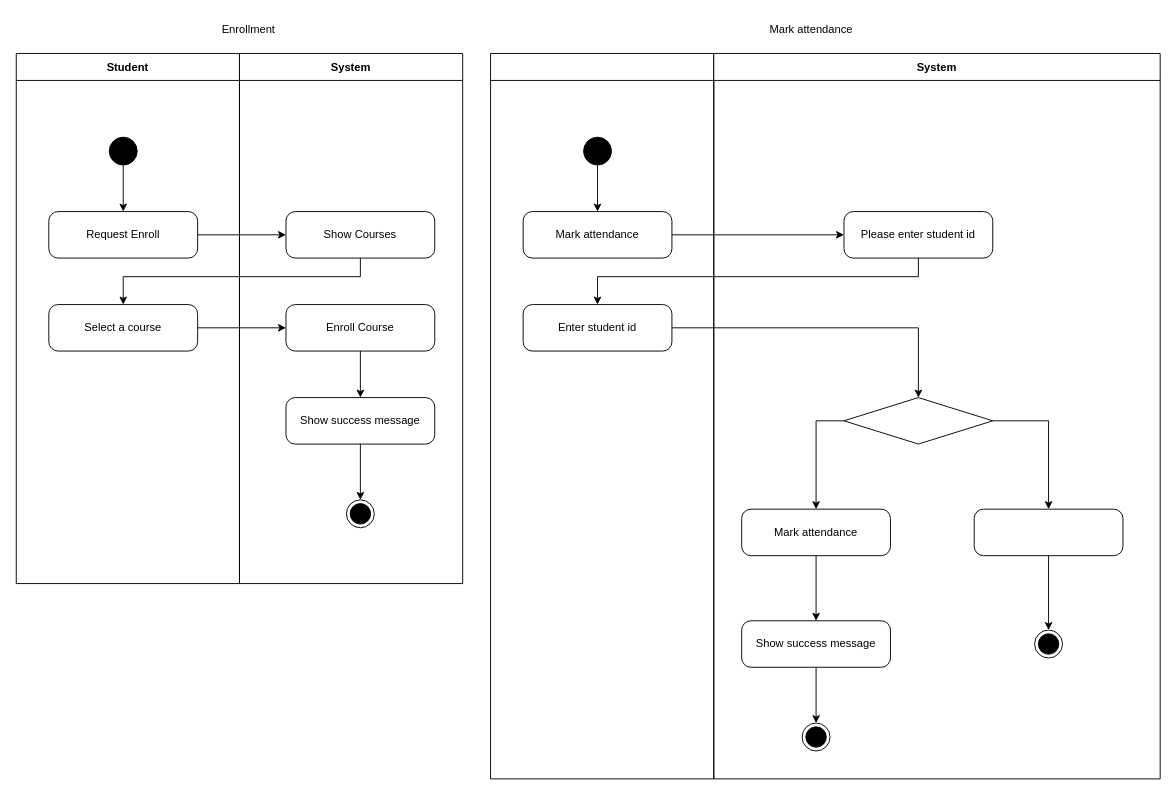
This 1176x795 diagram has some shape labels left out. The shapes that lost their labels are listed below. From the top down, each one's centre as x and y in pixels, then its label:
At point (602, 416): "Lecturer".
At point (918, 420): "Validate Student".
At point (1048, 532): "Show error message".
